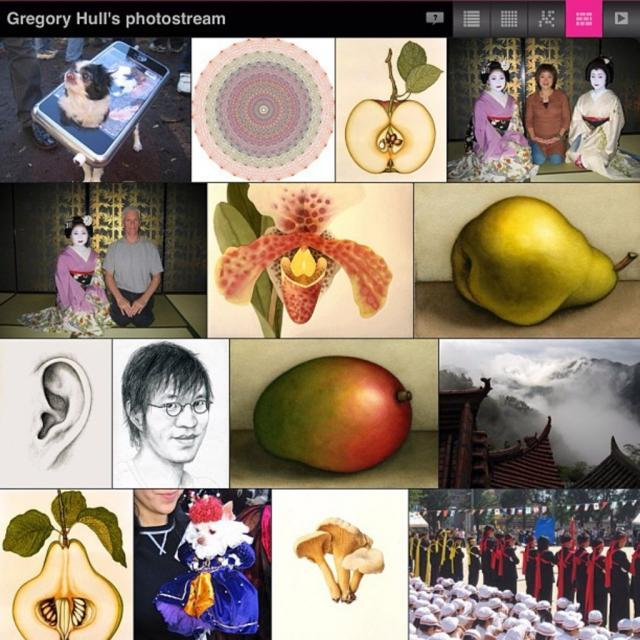Mango: (262, 358, 423, 479)
